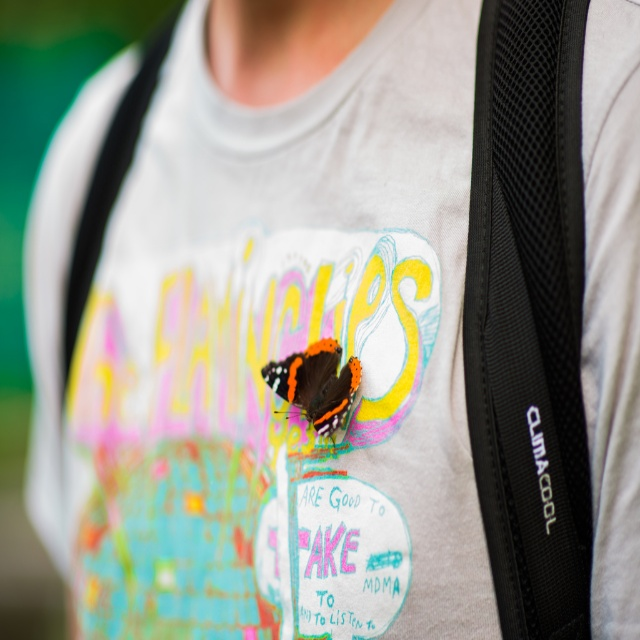Butterfly: (256, 327, 368, 452)
